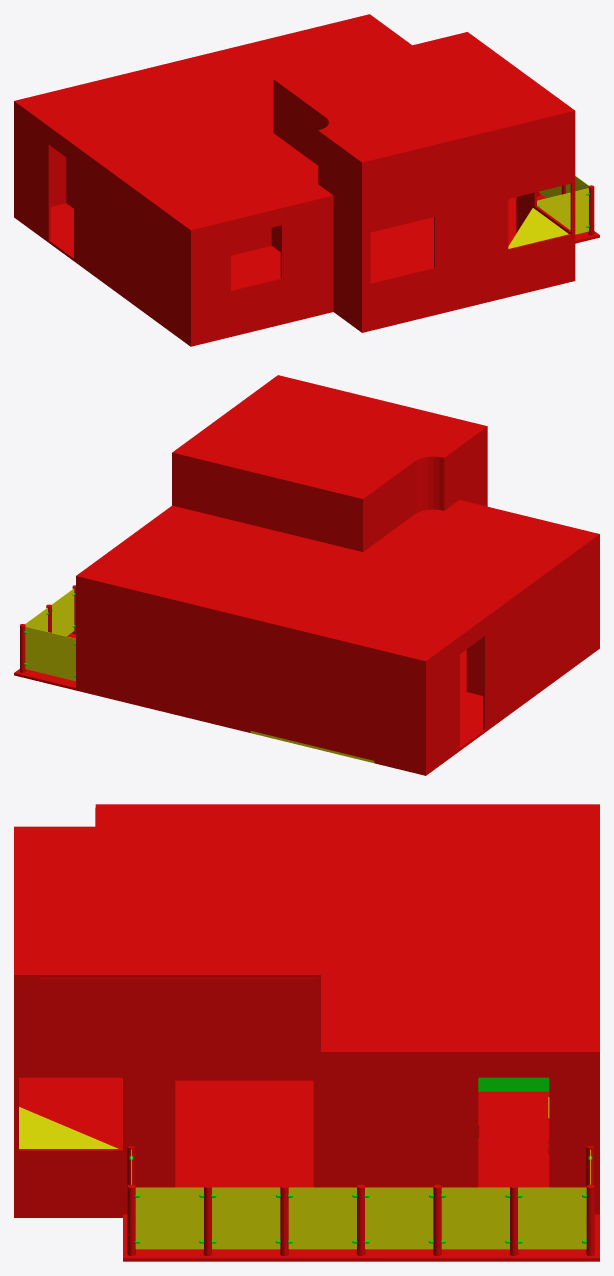
The model's file is target_house_01_grp.fbx.
The picture shows the model from 3 angles, top to bottom: view 1: azimuth 30°, elevation 25°; view 2: azimuth 150°, elevation 25°; view 3: azimuth 270°, elevation 25°; orthographic projection. The views are drawn at different scales.
Parts seen in each view (by area): view 1: target_house_01_walls_phantom, target_house_01_ceiling_phantom, target_house_01_floor, target_house_01_walls, target_house_01_deck_wall, target_house_01_countertop_1, target_house_01_deck; view 2: target_house_01_ceiling_phantom, target_house_01_walls_phantom, target_house_01_deck_wall, target_house_01_floor, target_house_01_walls, target_house_01_deck; view 3: target_house_01_ceiling_phantom, target_house_01_walls_phantom, target_house_01_deck_wall, target_house_01_floor, target_house_01_deck, target_house_01_countertop_1, target_house_01_walls.
Part boxes in pixels (x1,y1,x2,y2): target_house_01_walls_phantom: (14, 83, 575, 344); target_house_01_ceiling_phantom: (14, 14, 575, 232); target_house_01_floor: (14, 203, 575, 346); target_house_01_walls: (50, 146, 570, 255); target_house_01_deck_wall: (537, 176, 594, 235); target_house_01_countertop_1: (508, 208, 568, 248); target_house_01_deck: (508, 194, 599, 243); target_house_01_ceiling_phantom: (76, 375, 599, 663); target_house_01_walls_phantom: (76, 429, 599, 773); target_house_01_deck_wall: (20, 585, 75, 681); target_house_01_floor: (76, 646, 599, 775); target_house_01_walls: (466, 637, 482, 695); target_house_01_deck: (14, 632, 75, 690); target_house_01_ceiling_phantom: (14, 804, 599, 1055); target_house_01_walls_phantom: (14, 808, 599, 1214); target_house_01_deck_wall: (127, 1146, 594, 1255); target_house_01_floor: (14, 1077, 549, 1217); target_house_01_deck: (123, 1214, 599, 1261); target_house_01_countertop_1: (19, 1107, 118, 1148); target_house_01_walls: (175, 1077, 549, 1091).
Size of the model in its own units: 951 by 369 by 808.
